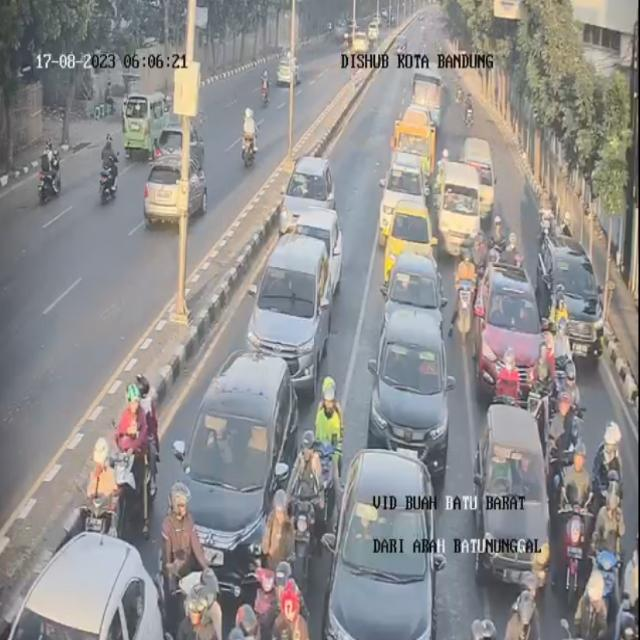cars: (180, 335, 301, 568), (323, 433, 449, 640), (0, 532, 166, 639), (469, 392, 555, 592), (241, 228, 336, 394), (371, 308, 453, 494), (471, 257, 550, 401), (535, 226, 605, 356), (374, 250, 450, 337), (432, 153, 480, 264), (380, 104, 449, 180), (382, 200, 439, 284), (286, 203, 348, 272), (379, 160, 426, 250), (457, 134, 503, 224), (283, 152, 343, 214), (401, 63, 451, 136)
motorcycle: (107, 376, 165, 537), (153, 483, 215, 623), (584, 476, 633, 640), (282, 434, 330, 574), (302, 375, 346, 507), (546, 402, 594, 518), (557, 449, 594, 598), (77, 438, 122, 551), (595, 419, 629, 566), (524, 337, 567, 438), (174, 557, 226, 640), (254, 495, 294, 594), (491, 569, 545, 640), (450, 246, 483, 343), (549, 280, 578, 380), (241, 568, 281, 640), (489, 350, 523, 420), (532, 187, 562, 258), (484, 210, 507, 268), (501, 220, 525, 273)
